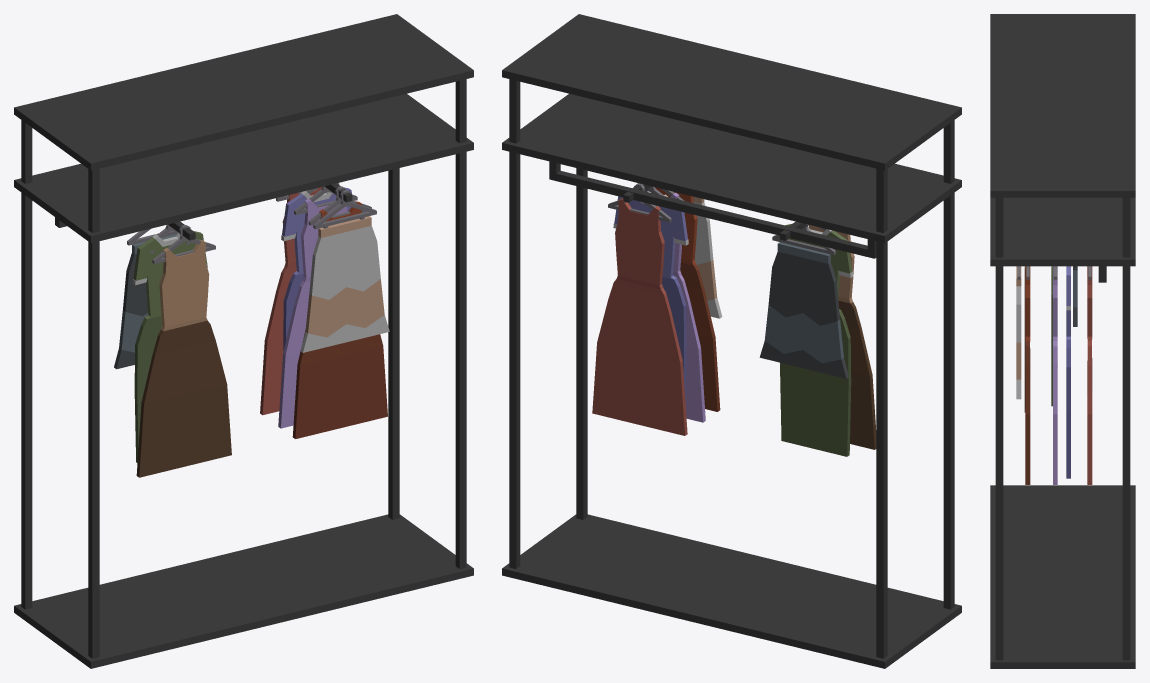
Rendered from SM_Props_Rack_09.fbx.
3 renders of one model, left to right at view 1: azimuth 30°, elevation 25°; view 2: azimuth 150°, elevation 25°; view 3: azimuth 270°, elevation 25°, orthographic. The views are drawn at different scales.
Visible parts, largest first — view 1: SM_Props_Rack_09; view 2: SM_Props_Rack_09; view 3: SM_Props_Rack_09.
Part boxes in pixels (x1=…): SM_Props_Rack_09: x1=14, y1=14, x2=473, y2=668; SM_Props_Rack_09: x1=502, y1=14, x2=961, y2=668; SM_Props_Rack_09: x1=990, y1=14, x2=1135, y2=668.
Bounding box in the file's own units: 2 × 2.52 × 0.6949.
